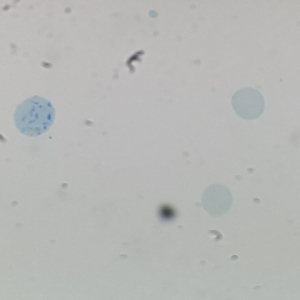aggregate reticulocyte: (12, 95, 57, 138)
erythrocyte: (229, 87, 267, 121), (199, 183, 234, 219)
